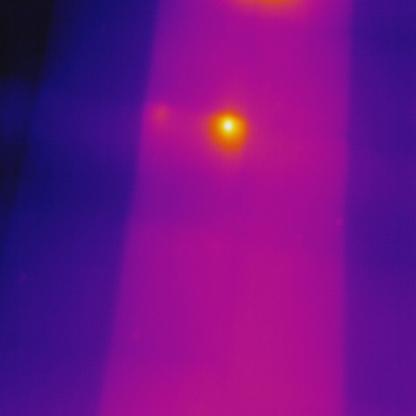hotspot: (210, 110, 252, 148)
